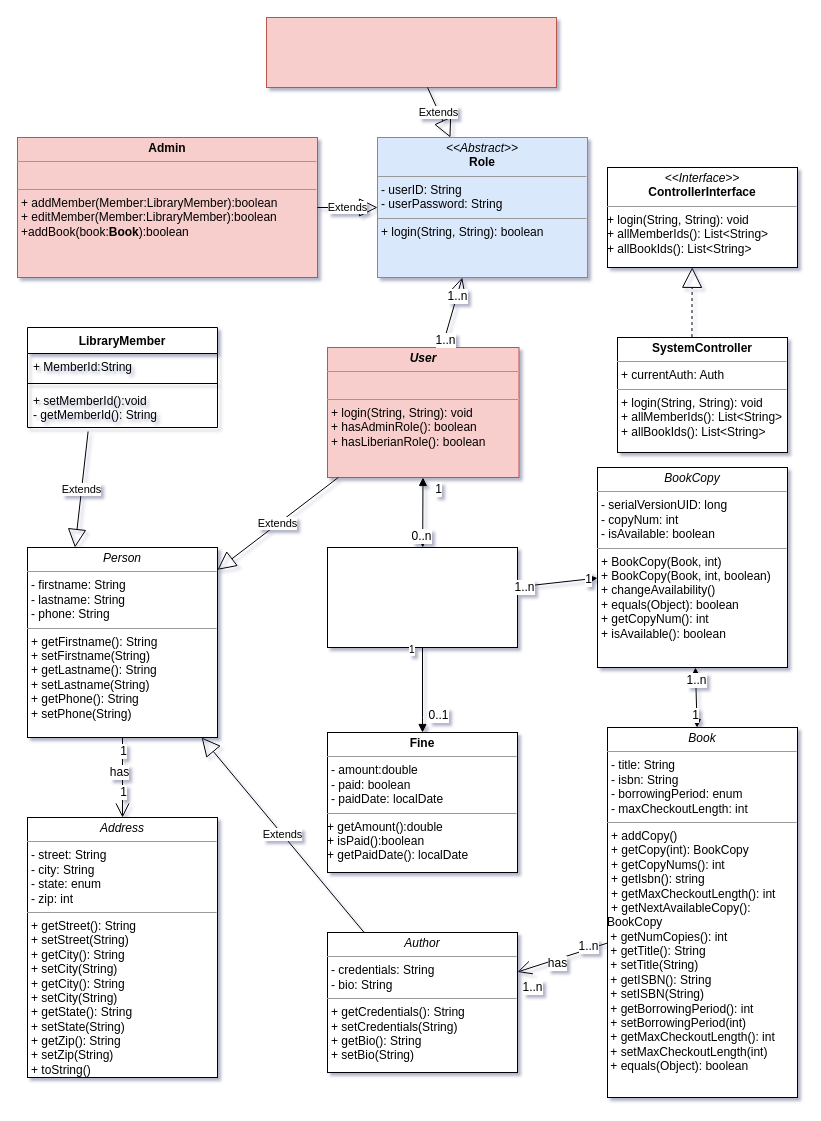
Some shapes in this 821 by 1121 pixel diagram are drawn without their labels. Each missing label, with the centre of its shape:
"CheckoutRecord + checkoutDate: Date + dueDate: Date + returnDate: Date" belongs at (422,597).
"Librarian + checkOutBook(BookCopy,LibaryMember):void" belongs at (411,52).
